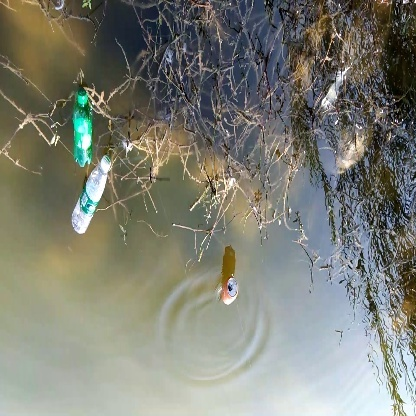bottle: (64, 156, 118, 234), (67, 89, 96, 170), (212, 272, 247, 316)
